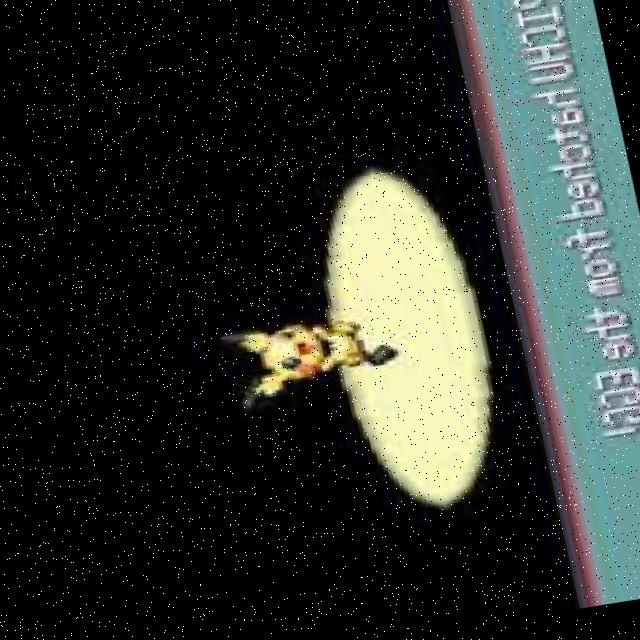pichu: (170, 270, 439, 443)
